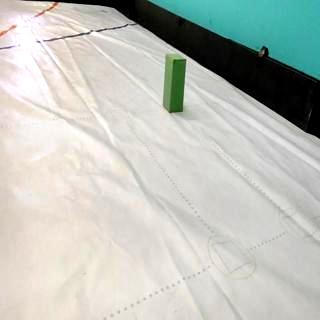greenbox: (162, 50, 188, 114)
